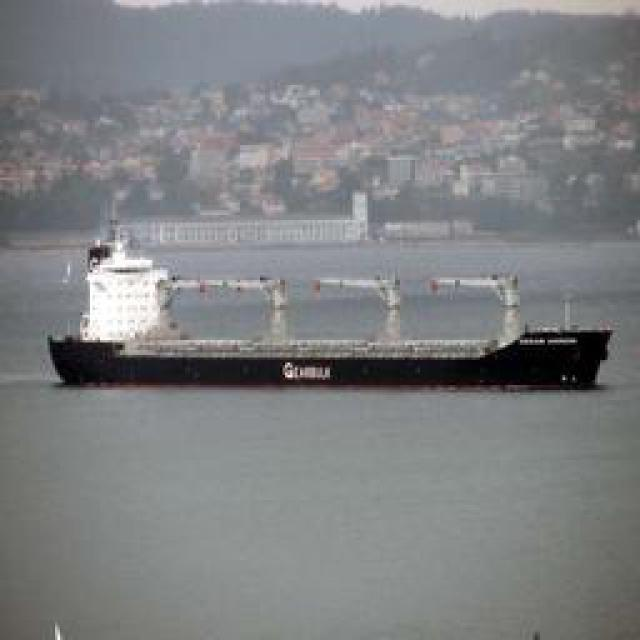Ship: (41, 270, 621, 393)
